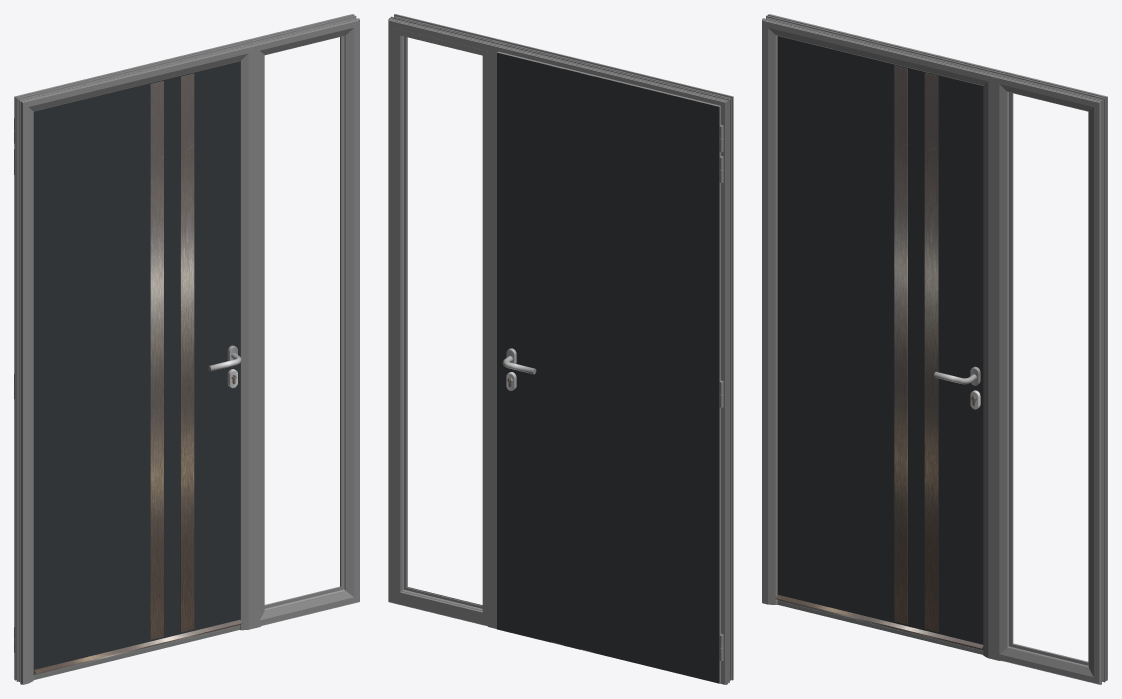
3 renders of one model, left to right at view 1: azimuth 30°, elevation 25°; view 2: azimuth 150°, elevation 25°; view 3: azimuth 330°, elevation 25°, orthographic.
Visible parts, largest first — view 1: bloco_119, Rectangle002, alunox_071, Line004, Object, Object001, Line005, Rectangle005, Rectangle003; view 2: bloco_119, Rectangle002, Rectangle003, Line004, Object001, Rectangle004, Object; view 3: bloco_119, Rectangle002, alunox_071, Line004, Object001, Object, Line005, Rectangle003, Rectangle005.
Part boxes in pixels (<box>): bloco_119: <box>33,61,240,671</box>; Rectangle002: <box>14,14,359,684</box>; alunox_071: <box>150,73,194,639</box>; Line004: <box>240,46,264,630</box>; Object: <box>33,35,346,680</box>; Object001: <box>264,36,344,608</box>; Line005: <box>33,620,242,674</box>; Rectangle005: <box>33,625,240,679</box>; Rectangle003: <box>264,37,340,605</box>; bloco_119: <box>497,52,719,683</box>; Rectangle002: <box>388,14,733,684</box>; Rectangle003: <box>394,28,487,619</box>; Line004: <box>488,41,504,628</box>; Object001: <box>401,36,482,610</box>; Rectangle004: <box>496,51,720,683</box>; Object: <box>404,36,482,608</box>; bloco_119: <box>777,36,983,644</box>; Rectangle002: <box>762,14,1107,684</box>; alunox_071: <box>894,65,938,631</box>; Line004: <box>983,77,1007,661</box>; Object001: <box>1007,92,1088,665</box>; Object: <box>776,35,1088,667</box>; Line005: <box>775,595,983,649</box>; Rectangle003: <box>1012,93,1087,662</box>; Rectangle005: <box>777,600,983,654</box>.
Size of the model in its own units: 1307 by 2150 by 192.
Materials: 6 (4 with a texture image).
